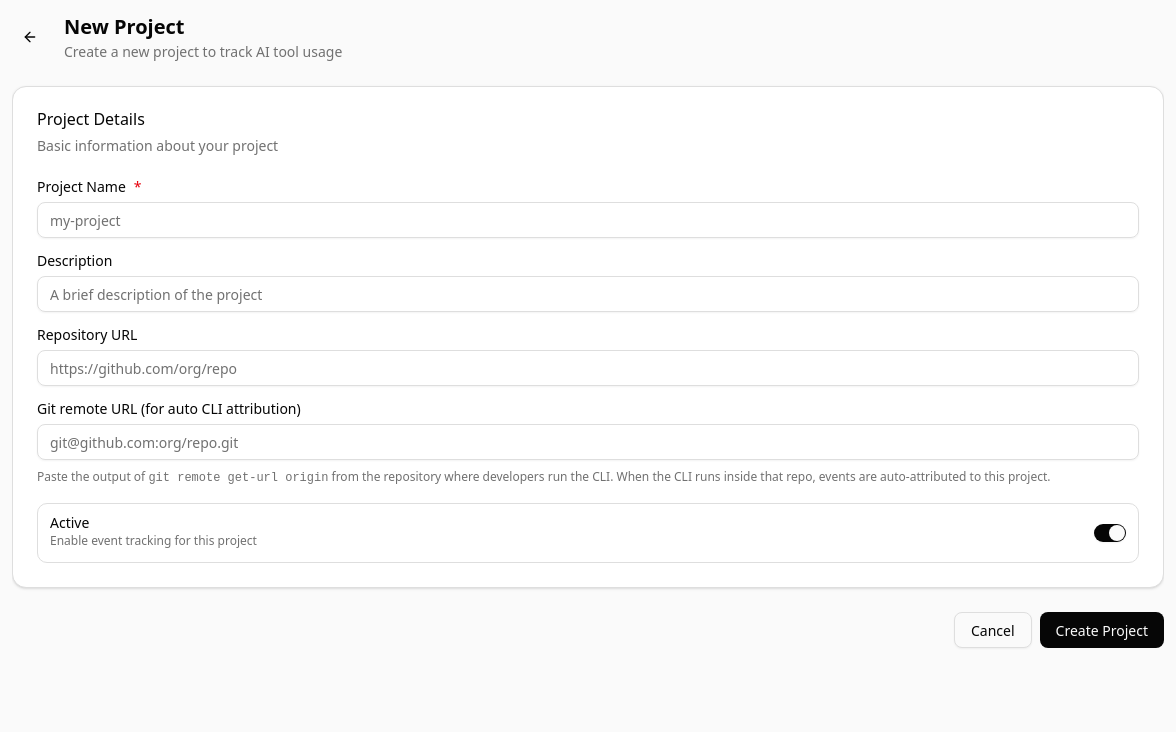
Test: ProjectForm › validation › shows error when name is empty
Step 1. Click the button "Create Project" → (1102, 630), box [1040,612,1164,648]
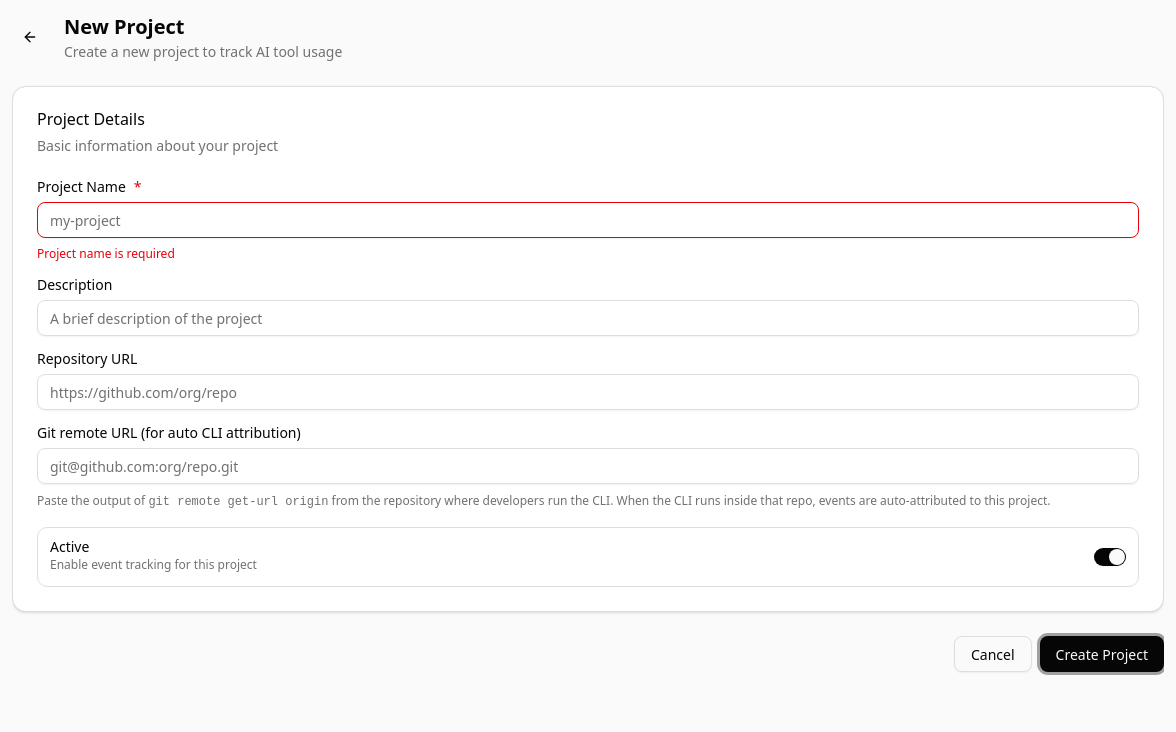
Now the text "Project name is required" is shown, box [37,245,175,262]
